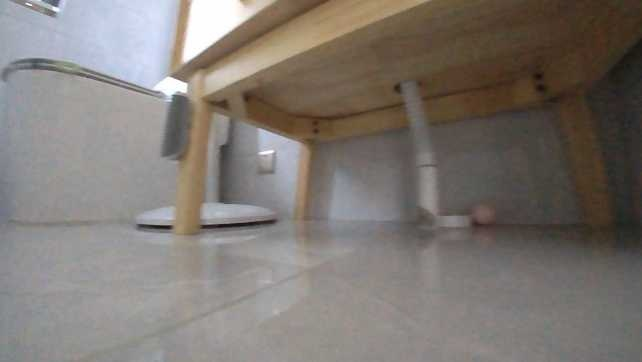chair_base: (135, 182, 274, 229)
toilet: (0, 46, 205, 221)
